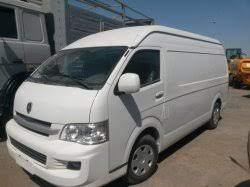van: (8, 24, 231, 182)
